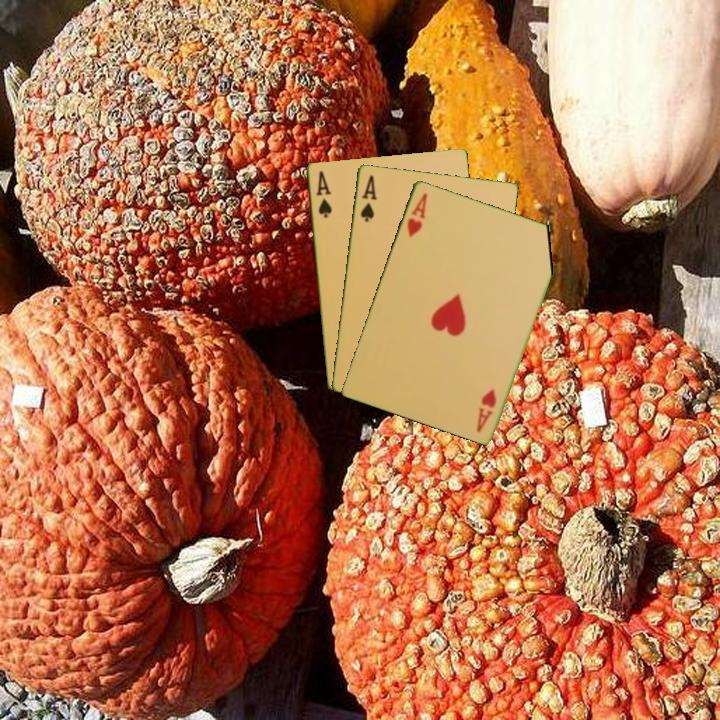Ah: (403, 189, 430, 240), (473, 385, 499, 435)
As: (357, 171, 380, 224), (312, 167, 334, 220)
